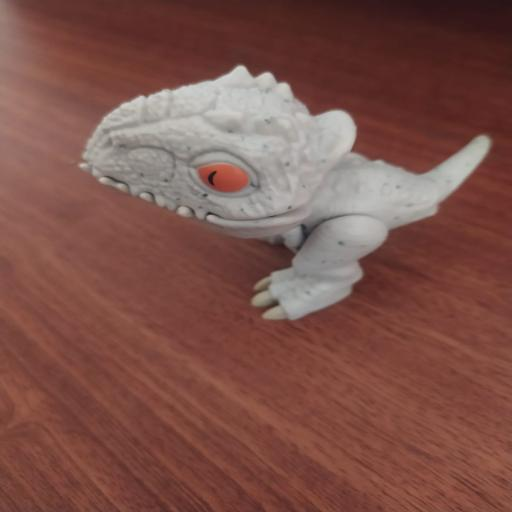Dinosaurio: (67, 59, 499, 331)
